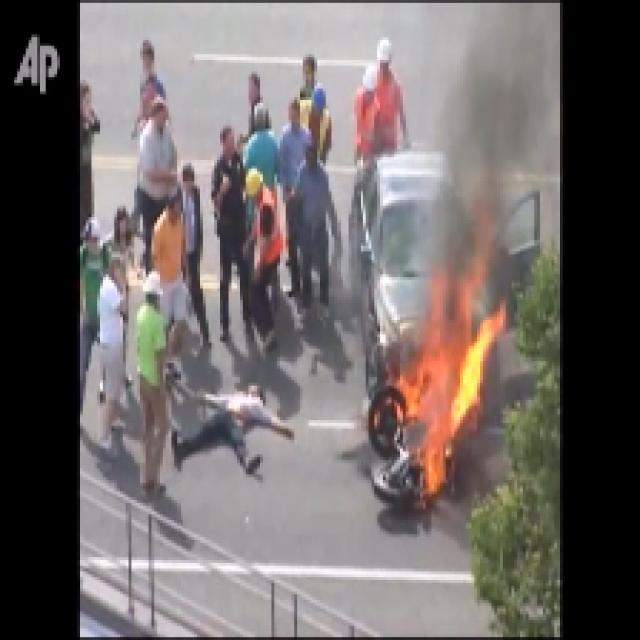Fire: (399, 341, 486, 496)
Smoke: (450, 21, 555, 277)
